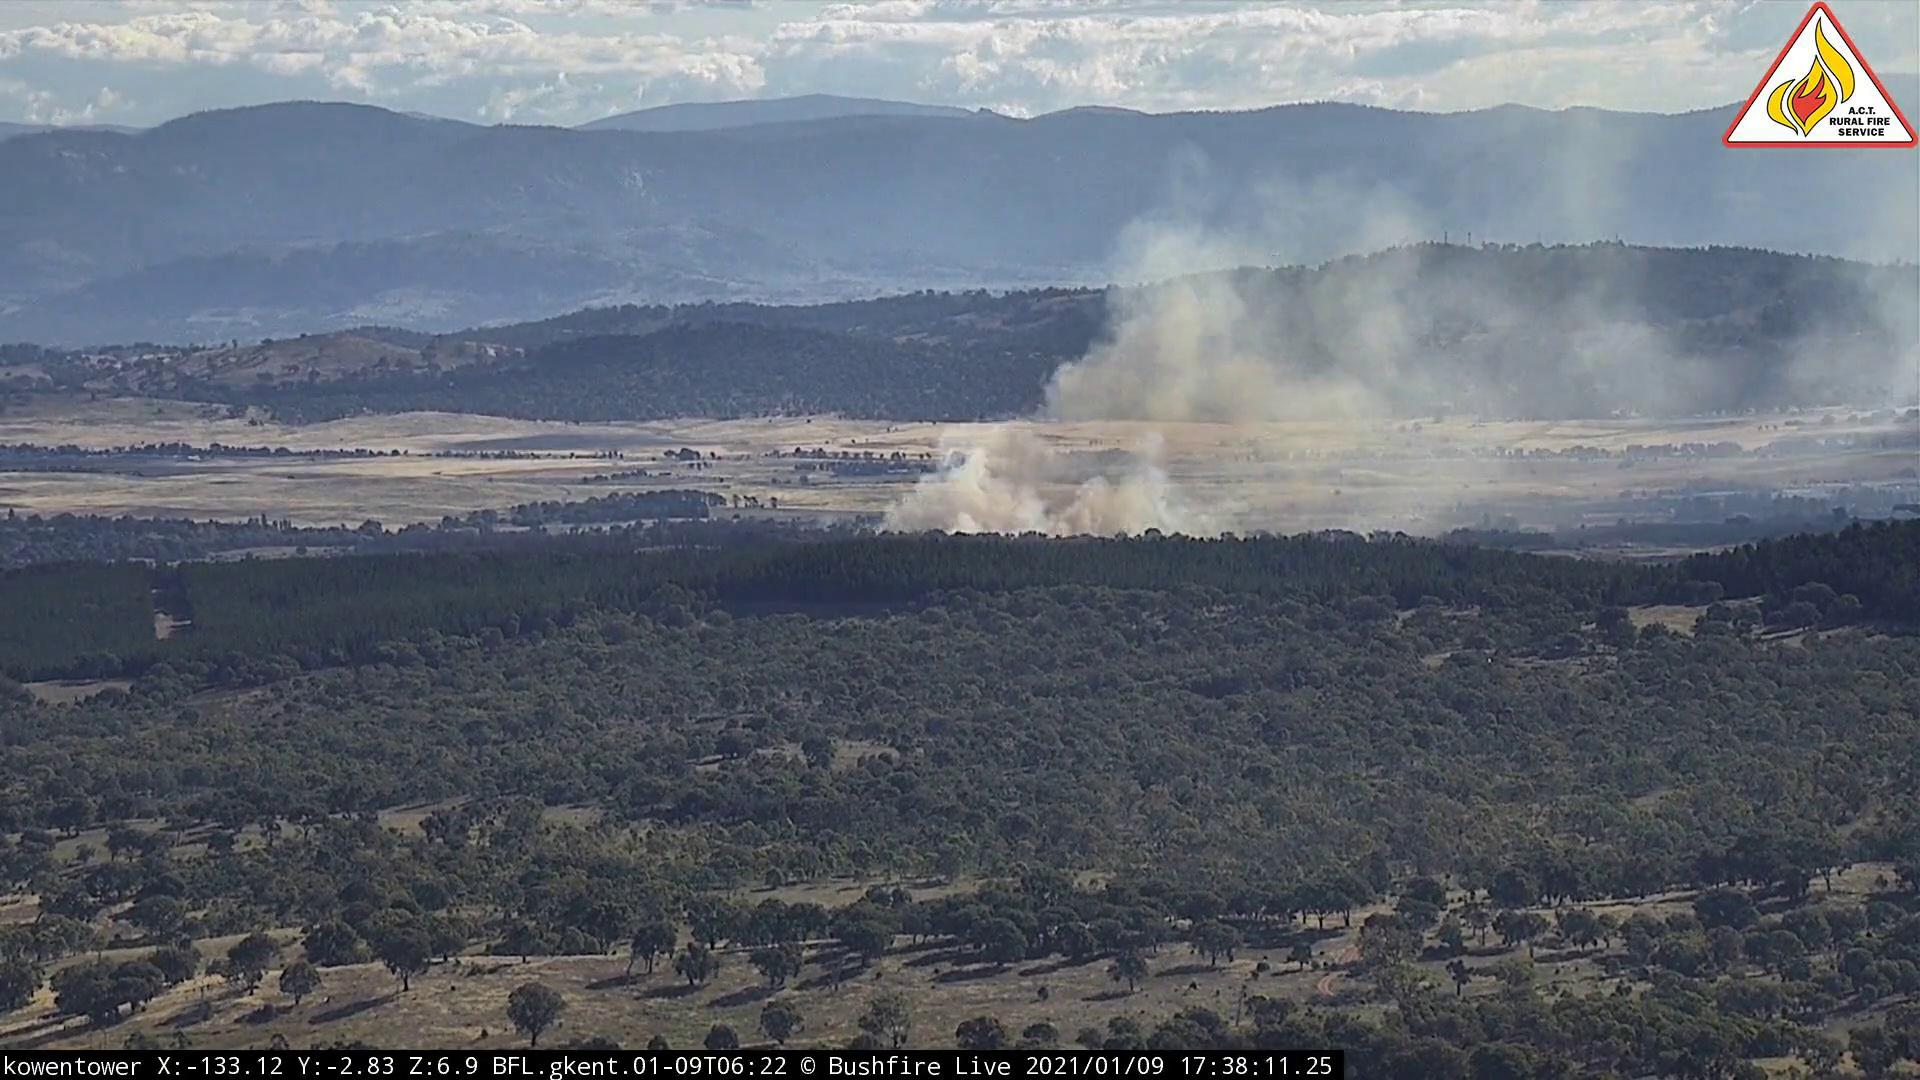Smoke: (876, 158, 1920, 551)
